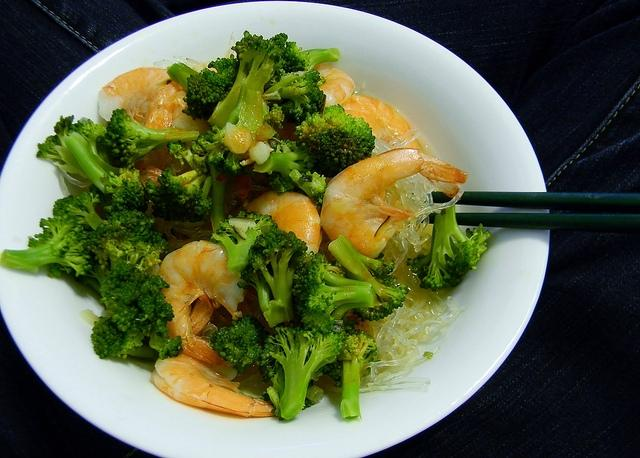broccoli: (215, 316, 344, 420), (90, 262, 184, 361), (206, 31, 288, 138), (2, 194, 94, 278), (292, 250, 382, 334), (406, 204, 491, 292), (63, 131, 146, 219), (328, 234, 409, 322), (96, 108, 200, 170), (242, 232, 306, 328), (294, 104, 376, 178), (317, 327, 378, 420), (83, 210, 169, 272), (167, 54, 240, 121), (208, 209, 278, 273), (144, 168, 212, 222), (264, 68, 324, 126), (253, 140, 314, 196), (271, 32, 340, 73), (52, 192, 104, 232), (290, 169, 326, 210)
